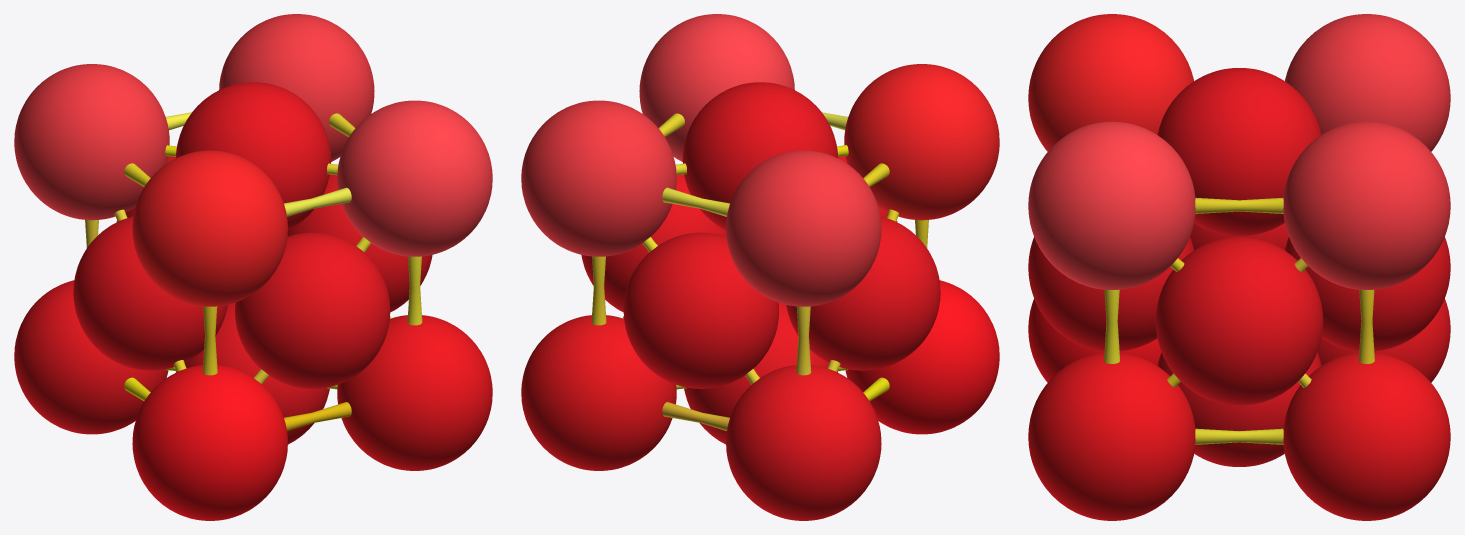
The model's file is SEL SATUAN FCC.fbx.
3 views of the same model, side by side, from view 1: azimuth 30°, elevation 25°; view 2: azimuth 150°, elevation 25°; view 3: azimuth 270°, elevation 25° (orthographic). The views are drawn at different scales.
Visible parts, largest first — view 1: Sphere.003, Sphere.004, Sphere.002, Sphere, Sphere.012, Sphere.008, Sphere.010, Sphere.005, Sphere.013, Sphere.001, Sphere.007, Sphere.009 (+4 smaller); view 2: Sphere, Sphere.005, Sphere.001, Sphere.003, Sphere.011, Sphere.006, Sphere.010, Sphere.004, Sphere.013, Sphere.002, Sphere.007, Sphere.009 (+4 smaller); view 3: Sphere.001, Sphere.002, Sphere.009, Sphere.008, Sphere.006, Sphere.013, Sphere, Sphere.003, Sphere.011, Sphere.012, Sphere.007, Sphere.004 (+6 smaller).
Part boxes in pixels (box(x1,y1,x2,y2)): Sphere.003: box(132, 150, 287, 306); Sphere.004: box(132, 365, 287, 520); Sphere.002: box(337, 100, 492, 256); Sphere: box(14, 64, 169, 220); Sphere.012: box(235, 232, 390, 388); Sphere.008: box(337, 315, 492, 470); Sphere.010: box(73, 216, 227, 370); Sphere.005: box(14, 280, 168, 434); Sphere.013: box(176, 82, 331, 229); Sphere.001: box(219, 14, 374, 161); Sphere.007: box(176, 302, 329, 444); Sphere.009: box(287, 174, 432, 312); Sphere: box(726, 150, 881, 306); Sphere.005: box(726, 365, 881, 520); Sphere.001: box(521, 100, 676, 256); Sphere.003: box(844, 64, 999, 220); Sphere.011: box(623, 232, 778, 388); Sphere.006: box(521, 315, 676, 470); Sphere.010: box(786, 216, 940, 370); Sphere.004: box(845, 280, 999, 434); Sphere.013: box(682, 82, 837, 229); Sphere.002: box(639, 14, 794, 161); Sphere.007: box(684, 302, 837, 444); Sphere.009: box(581, 174, 726, 312); Sphere.001: box(1283, 121, 1450, 289); Sphere.002: box(1028, 121, 1195, 289); Sphere.009: box(1155, 237, 1323, 405); Sphere.008: box(1028, 353, 1195, 520); Sphere.006: box(1283, 353, 1450, 520); Sphere.013: box(1157, 68, 1321, 236); Sphere: box(1285, 14, 1450, 151); Sphere.003: box(1028, 14, 1193, 151); Sphere.011: box(1285, 237, 1450, 351); Sphere.012: box(1028, 237, 1193, 351); Sphere.007: box(1157, 352, 1321, 466); Sphere.004: box(1028, 298, 1161, 382).
Bounding box in the file's own units: 4974 × 4995 × 4974.
